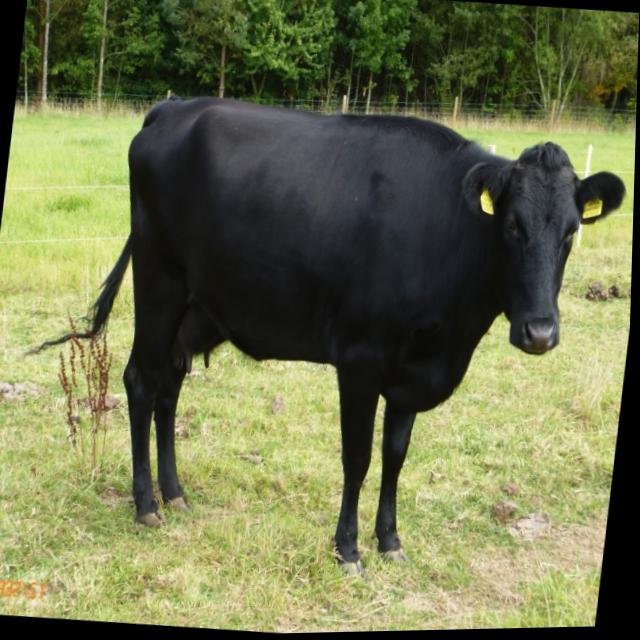cowFace: (442, 115, 637, 365)
